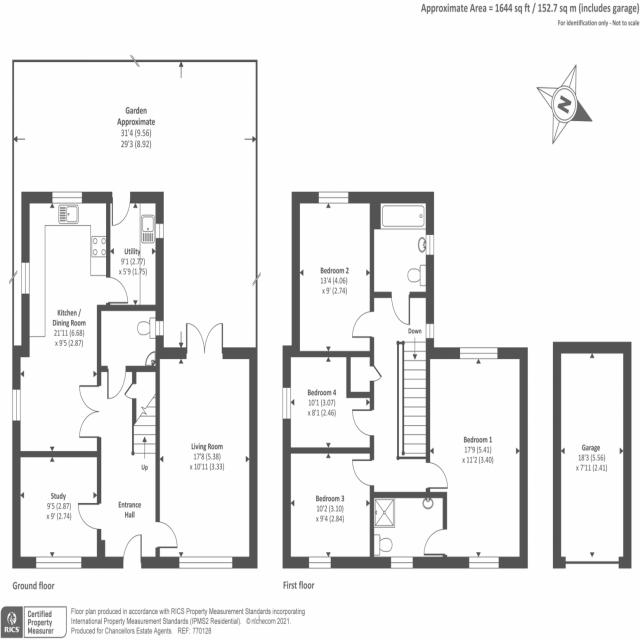DOOR: (184, 322, 225, 359), (78, 382, 102, 439), (105, 365, 127, 400), (121, 534, 143, 569), (425, 457, 449, 489), (110, 192, 132, 226), (351, 309, 375, 339), (351, 457, 375, 487), (423, 526, 447, 556), (77, 501, 101, 531), (390, 291, 411, 325), (351, 407, 374, 437), (106, 275, 129, 304), (156, 518, 178, 548)
ROOM: (13, 191, 130, 457), (156, 322, 258, 570), (423, 347, 528, 569), (292, 192, 375, 358), (283, 447, 374, 569), (283, 345, 375, 454)
WINDOW: (177, 556, 233, 569), (35, 556, 83, 568), (459, 346, 499, 360), (317, 191, 350, 204), (467, 556, 500, 569), (51, 191, 83, 204), (388, 556, 414, 570), (21, 260, 31, 295), (282, 386, 292, 420), (307, 556, 332, 569), (12, 387, 21, 422), (426, 233, 435, 256), (425, 321, 435, 340), (155, 319, 164, 337), (155, 223, 164, 239)
